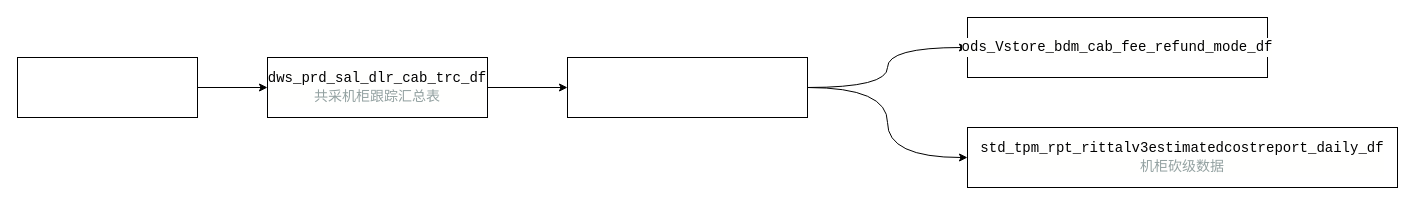
This 1415x205 diagram has some shape labels left out. Each missing label, with the centre of its shape:
ads_prd_sal_dlr_cab_trc_df: (x=107, y=87)
dwd_prd_sal_dlr_cab_put_dtl_df 经销商自购机柜投放报表: (x=687, y=87)
